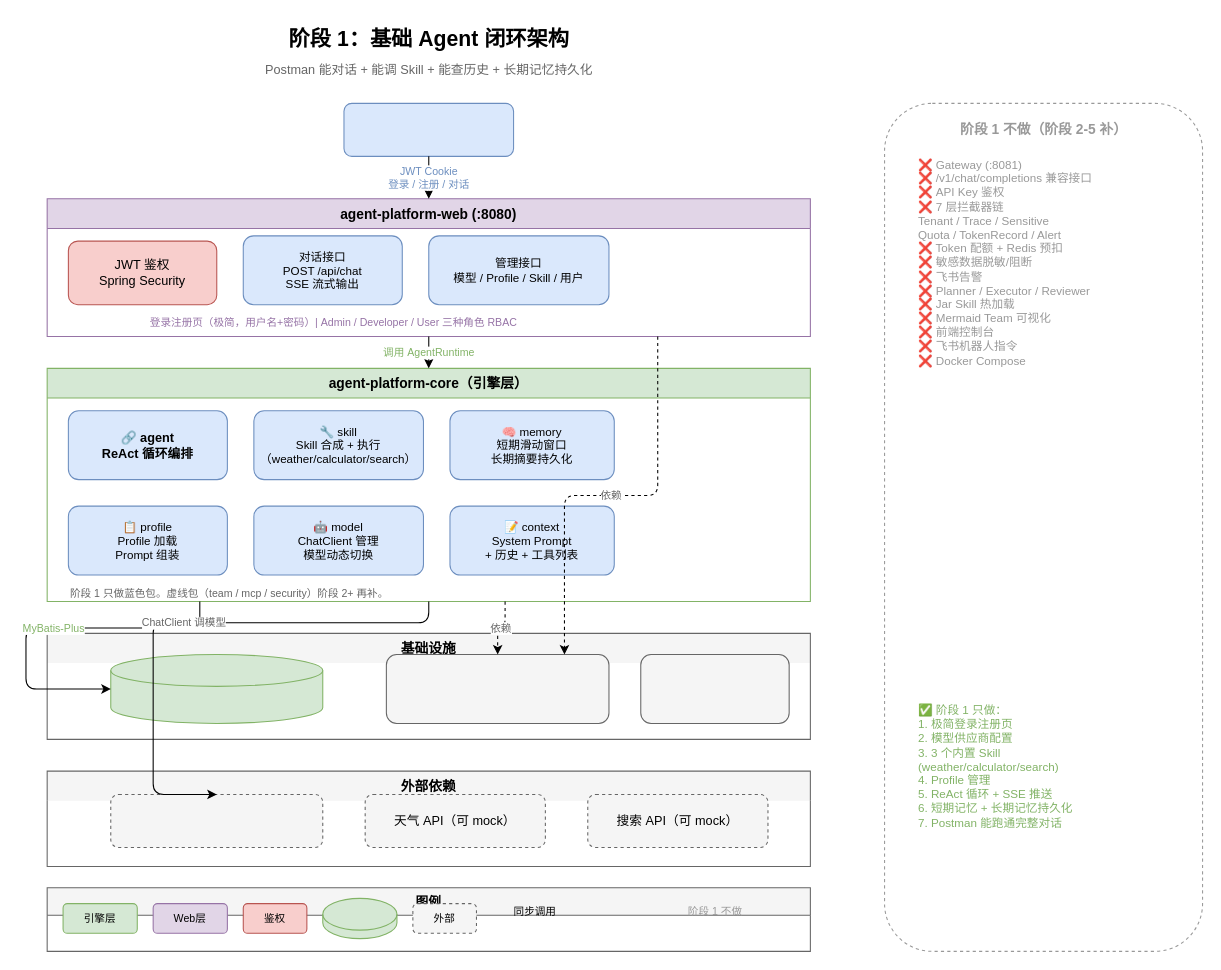
This 1221x970 diagram has some shape labels left out. Here are the shapes that lost their labels. From the top down, the centre of each, then its label:
At [428,129]: "浏览器用户".
At [216,688]: "PostgreSQL users / profiles / skills conversations / memories".
At [497,688]: "agent-platform-common 异常 / 错误码 / 枚举 / 工具".
At [714,688]: "Maven 多模块 Spring Boot 3.4.x + MyBatis-Plus".
At [216,820]: "模型 API OpenAI / 通义千问 / 本地".
At [359,918]: "数据库".
